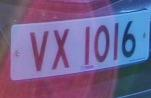0: (92, 22, 114, 67)
1: (79, 23, 95, 70), (109, 18, 122, 65)
6: (118, 19, 139, 63)
V: (27, 25, 51, 77)
X: (50, 25, 75, 75)
